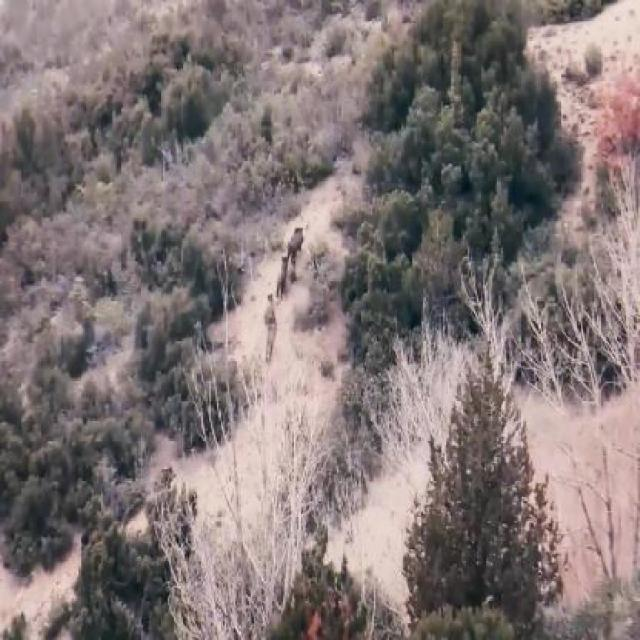pig: (260, 297, 278, 363), (280, 220, 306, 264), (269, 248, 291, 297)
